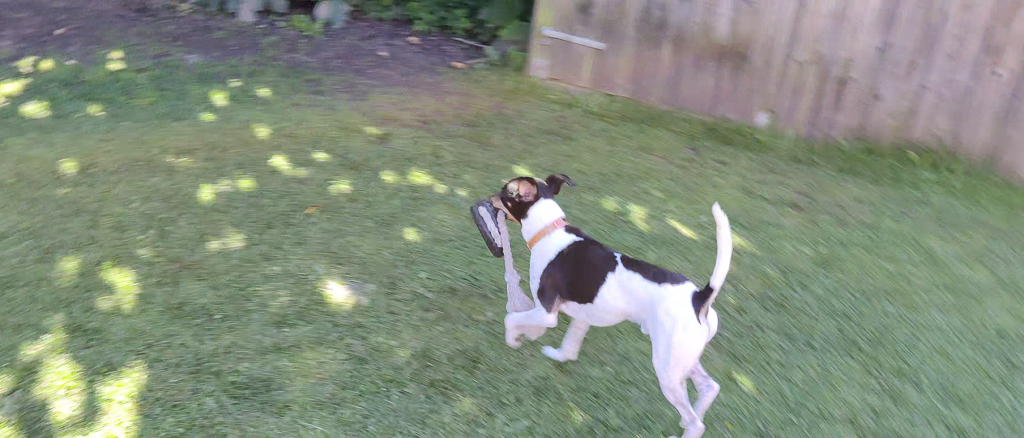Dog: (481, 153, 744, 438)
